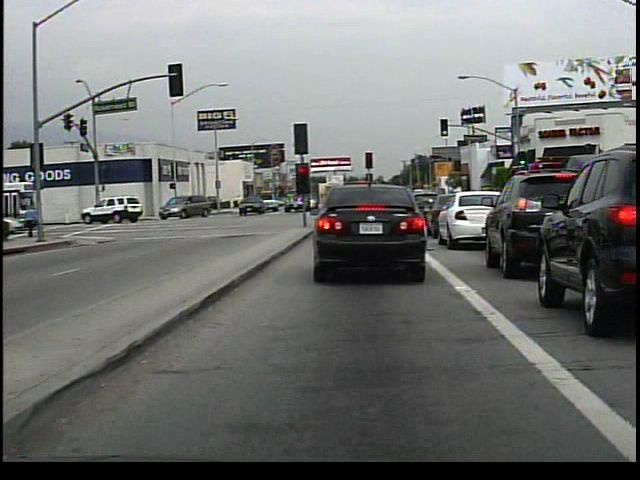person: (23, 200, 41, 242), (236, 191, 246, 208)
